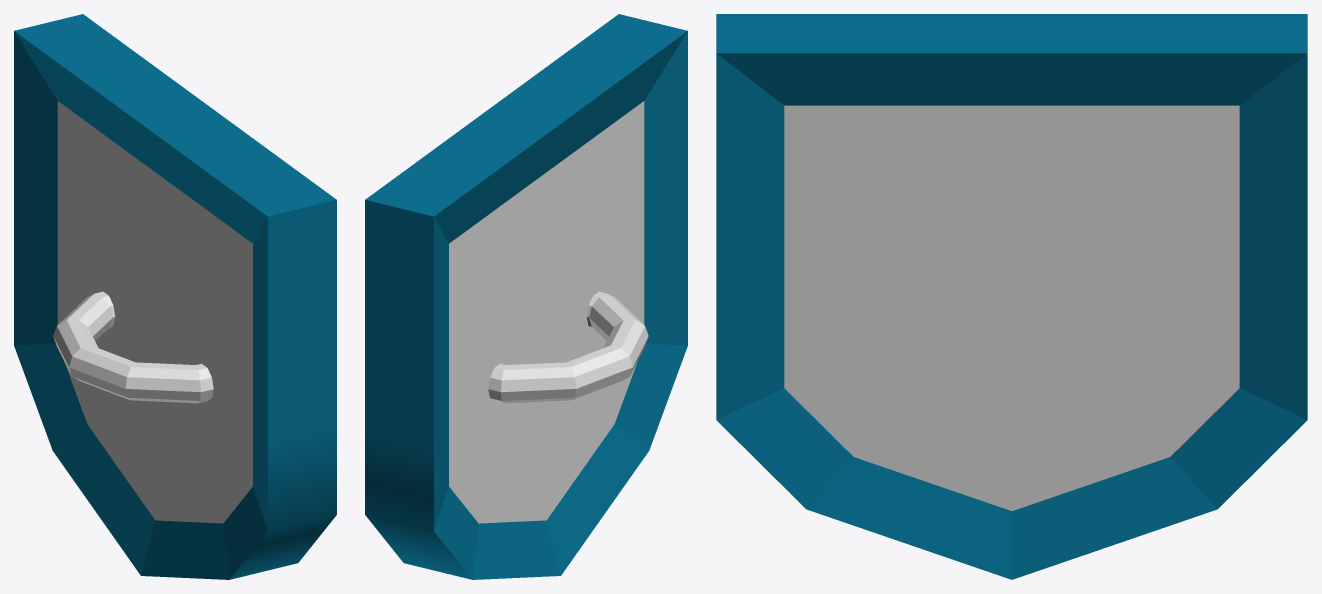
File: SlashCardShield.fbx
The picture shows the model from 3 angles, left to right: view 1: azimuth 30°, elevation 25°; view 2: azimuth 150°, elevation 25°; view 3: azimuth 270°, elevation 25°; orthographic projection. The views are drawn at different scales.
Visible parts, largest first — view 1: pCube3; view 2: pCube3; view 3: pCube3.
Part boxes in pixels (left/top/right/bottom): pCube3: left=14, top=14, right=336, bottom=579; pCube3: left=365, top=14, right=687, bottom=579; pCube3: left=716, top=14, right=1307, bottom=579.
Size of the model in its own units: 4.21 by 12.9 by 13.12.
